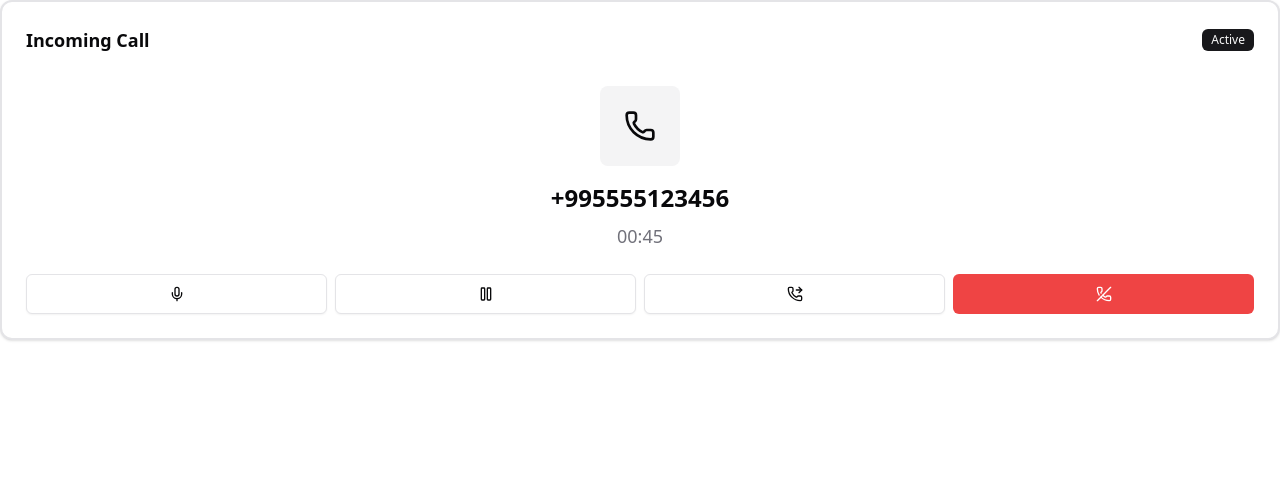
Test: ActiveCallDisplay › transfer panel › shows external number input when switching to external mode
The image size is (1280, 502).
Click the 3rd button: (794, 294) [644,274,945,314]
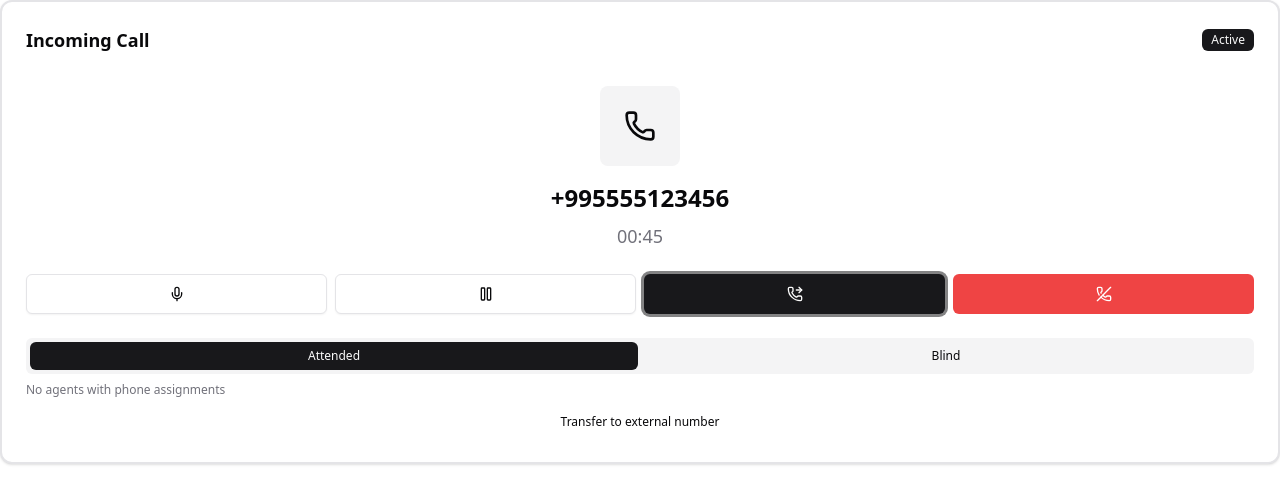
# Click "Transfer to external number" button
Click the button "Transfer to external number": (640, 422) [26,406,1254,438]
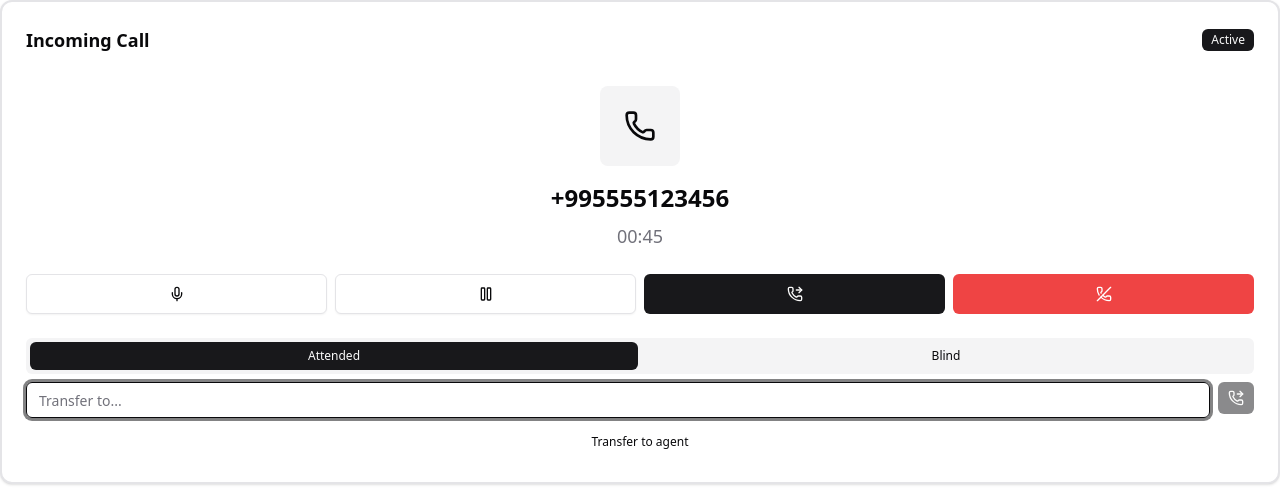
Result: the field with placeholder "Transfer to..." is shown at [26,382,1210,418]
